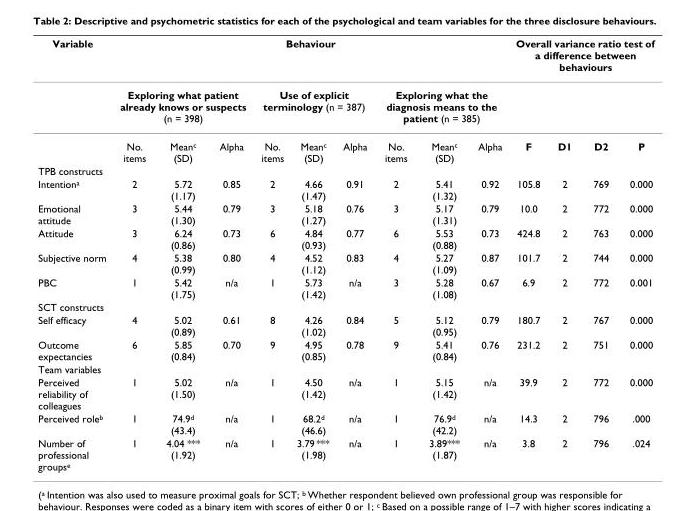table: (37, 36, 653, 471)
table column: (37, 36, 112, 471), (155, 36, 209, 471), (417, 36, 468, 471), (289, 36, 335, 471), (112, 36, 155, 471), (209, 36, 252, 471), (375, 36, 417, 471), (335, 36, 375, 471), (468, 36, 508, 471), (508, 36, 548, 471), (252, 36, 289, 471), (581, 36, 618, 471), (618, 36, 653, 471), (548, 36, 581, 471)
table column header: (37, 36, 653, 164)
table projected row header: (37, 300, 653, 313), (37, 362, 653, 375), (37, 164, 653, 176)
table row: (37, 80, 653, 131), (37, 36, 653, 80), (37, 375, 653, 411), (37, 436, 653, 471), (37, 131, 653, 164), (37, 176, 653, 201), (37, 201, 653, 226), (37, 250, 653, 275), (37, 275, 653, 300), (37, 337, 653, 362), (37, 411, 653, 436), (37, 226, 653, 250), (37, 313, 653, 337), (37, 300, 653, 313), (37, 362, 653, 375), (37, 164, 653, 176)
table spanning cell: (112, 36, 508, 80), (37, 36, 112, 164), (112, 80, 252, 131), (375, 80, 508, 131), (508, 36, 653, 80), (252, 80, 375, 131), (508, 80, 548, 164), (581, 80, 618, 164), (618, 80, 653, 164), (548, 80, 581, 164)
